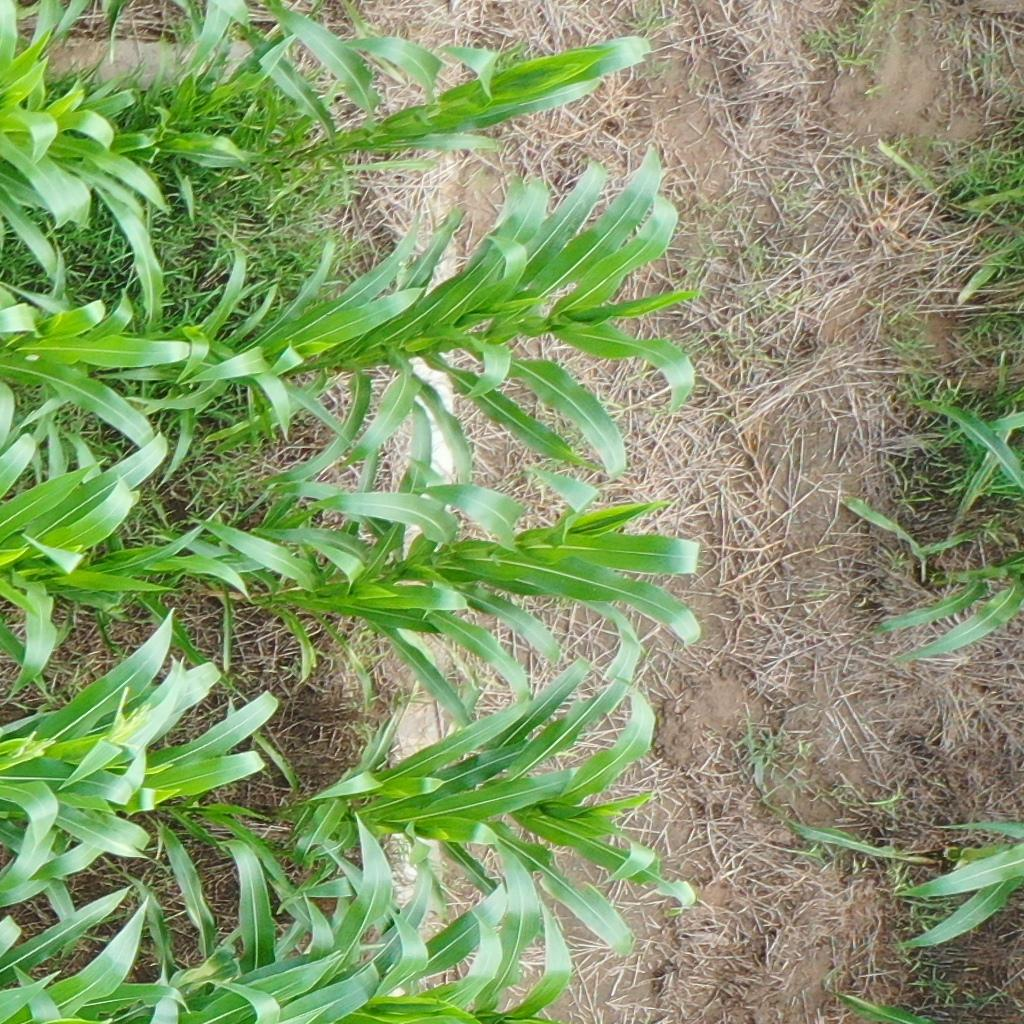Tassel: (102, 683, 150, 750), (7, 729, 54, 761)
